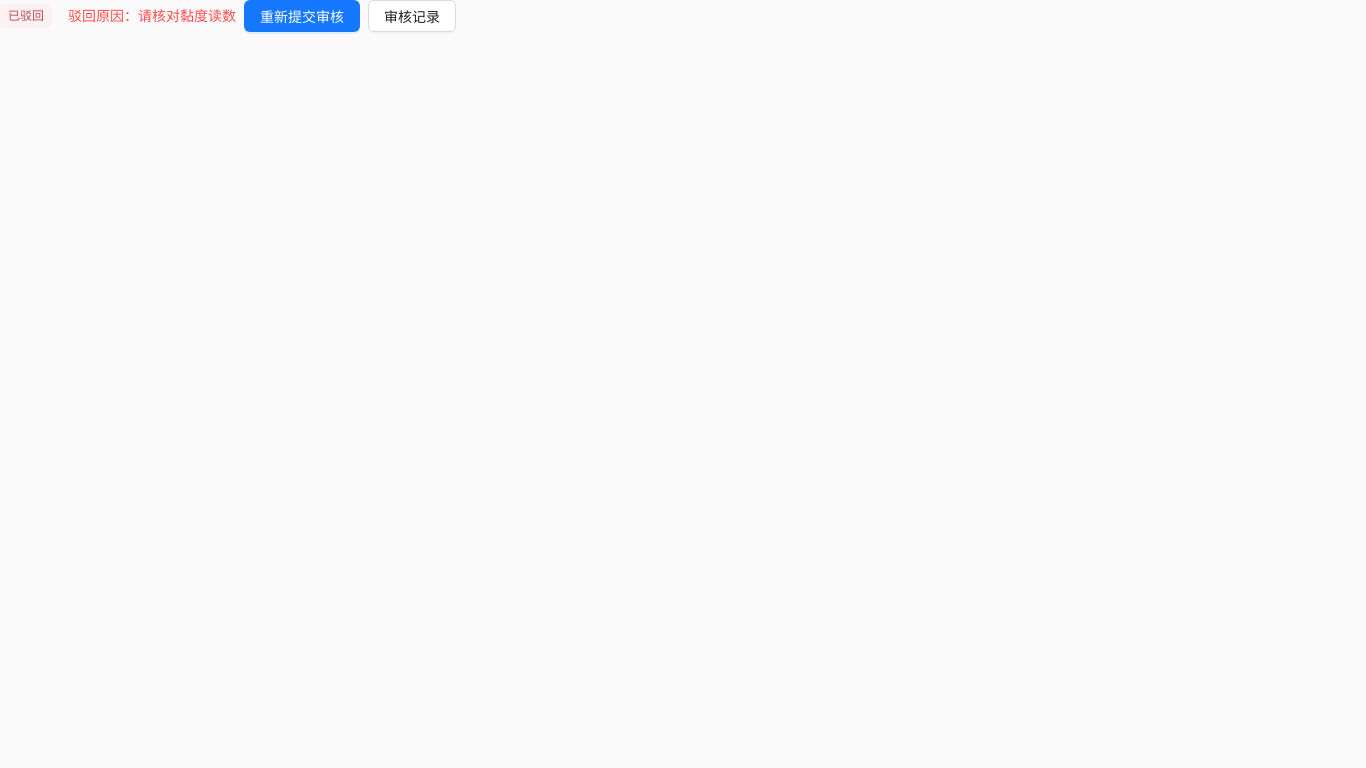
Test: shows review results, operator, time and rejection reason in the template-style timeline
Check: the button "重新提交审核" is shown, box left=244, top=0, right=360, bottom=32
Click the button "审核记录" at (412, 16), box left=368, top=0, right=456, bottom=32
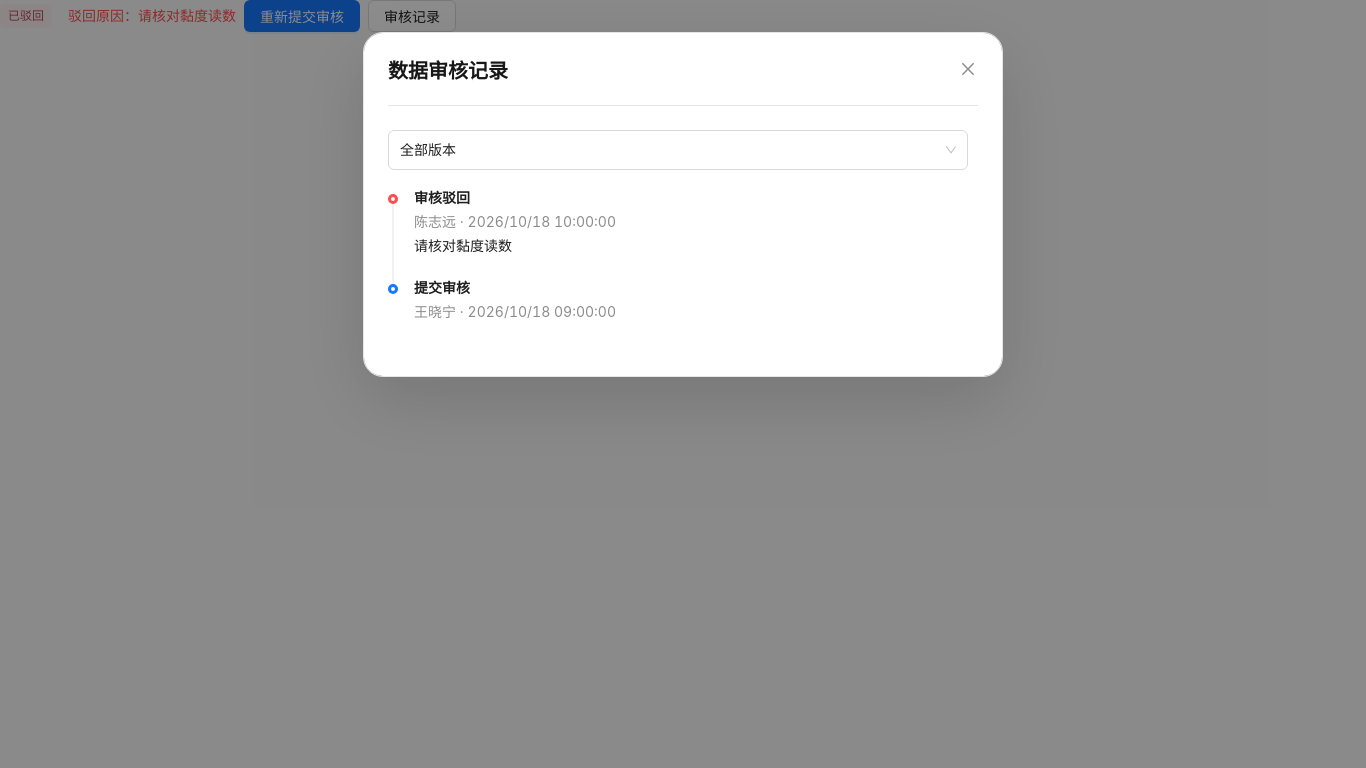
Check: the text "审核驳回" is shown, box left=414, top=189, right=470, bottom=206
Check: the text "请核对黏度读数" is shown, box left=414, top=237, right=512, bottom=254
Check: the text "陈志远 · 2026/10/18 10:00:00" is shown, box left=414, top=213, right=616, bottom=230
